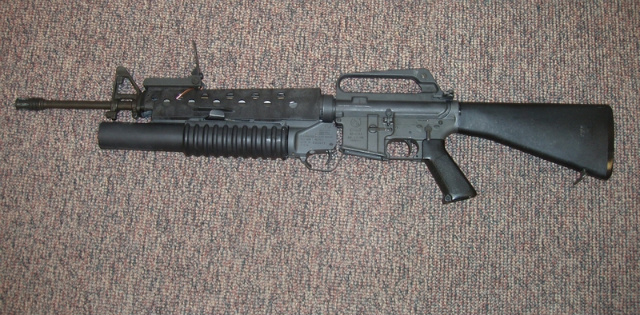rifle: (15, 43, 618, 209)
